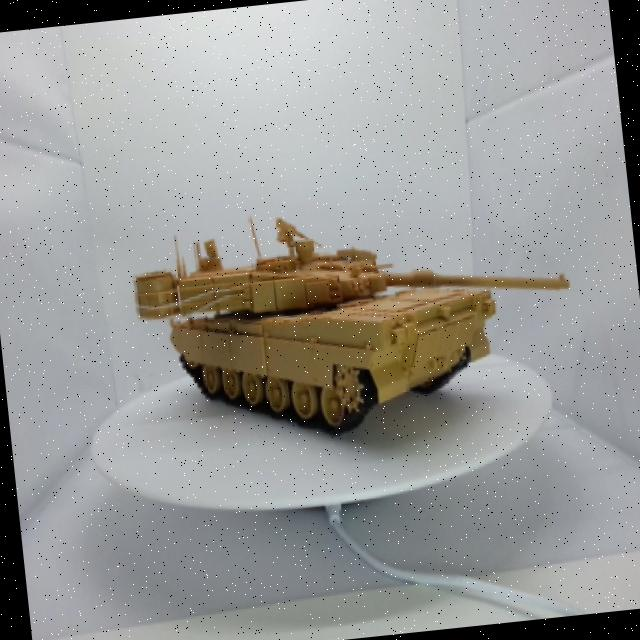korea tank: (112, 168, 610, 464)
